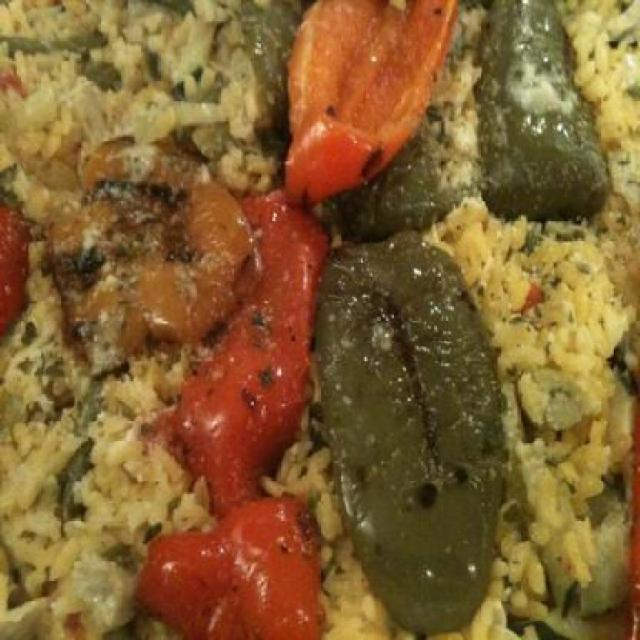Risotto: (6, 6, 638, 628)
